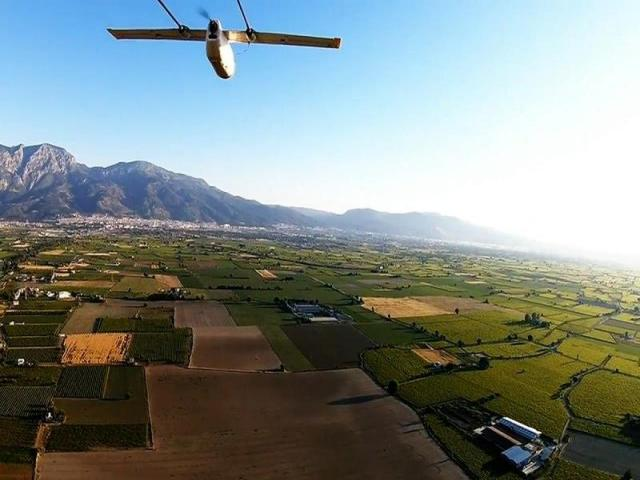hedef: (102, 1, 344, 94)
